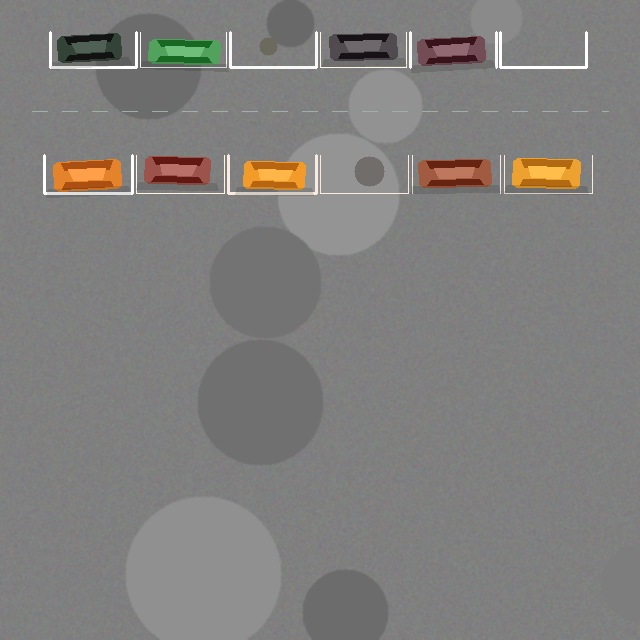space-empty: (320, 155, 408, 193), (230, 32, 316, 67), (500, 32, 586, 67)
space-occupied: (44, 155, 132, 193), (136, 155, 224, 193), (228, 155, 316, 193), (412, 155, 500, 193), (504, 155, 592, 193), (50, 32, 136, 67), (140, 32, 226, 67), (320, 32, 406, 67), (410, 32, 496, 67)
